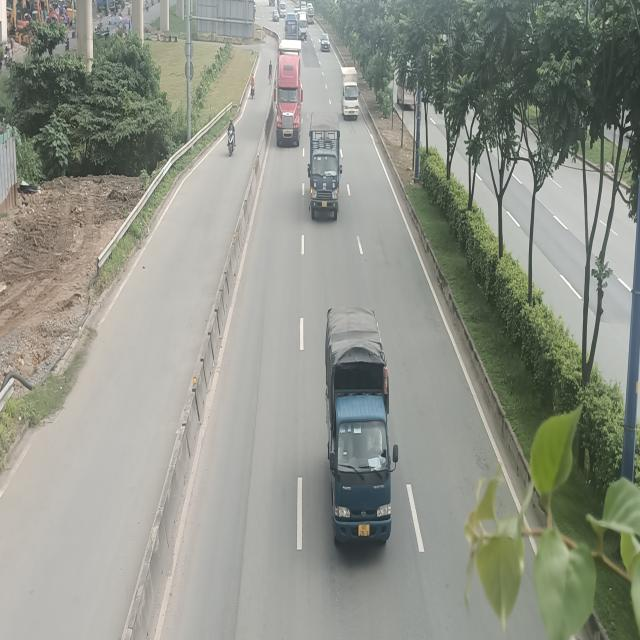car: (319, 29, 330, 52)
container: (273, 40, 304, 144)
truck: (324, 304, 398, 542), (308, 110, 342, 220), (341, 65, 359, 121)
